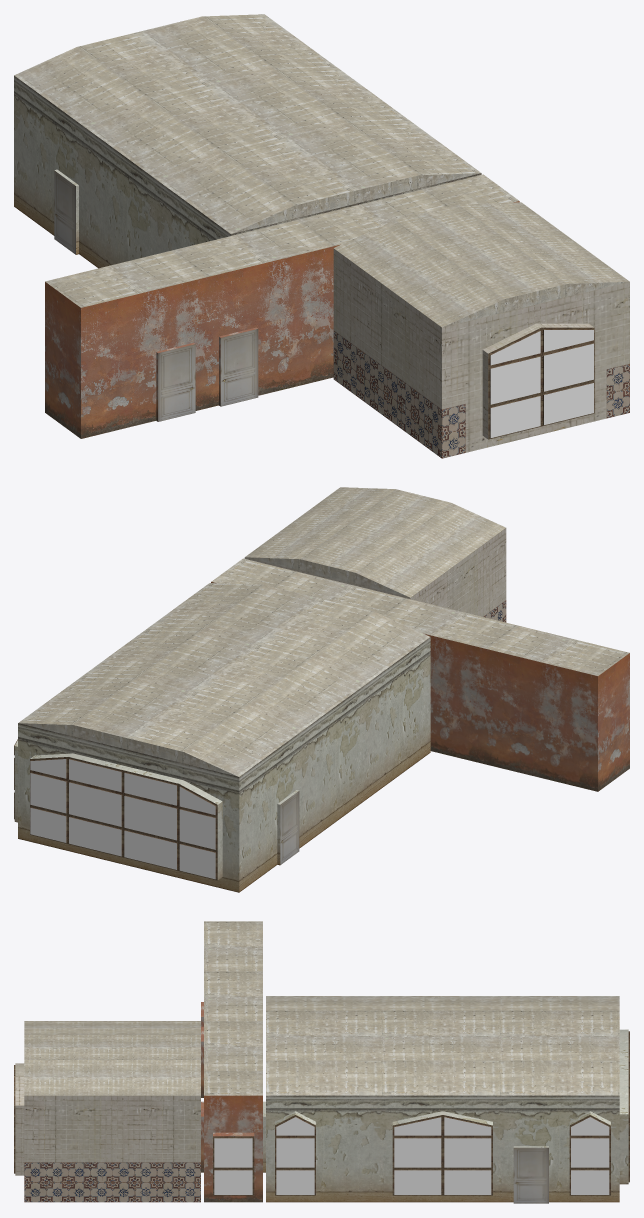
3 views of the same model, one above another, from view 1: azimuth 30°, elevation 25°; view 2: azimuth 150°, elevation 25°; view 3: azimuth 270°, elevation 25° (orthographic). The views are drawn at different scales.
Visible parts, largest first — view 1: Объект_Плоскость.11, Объект_Плоскость.18, Объект_Плоскость.32, Объект_Плоскость.16, Объект_Плоскость.29, Объект_Плоскость.10, Объект_Плоскость, Объект_Плоскость.27, Ноль_объект.3, Ноль_объект.4, Объект_Плоскость.7, Объект_Плоскость.28 (+2 smaller); view 2: Объект_Плоскость.11, Объект_Плоскость.16, Объект_Плоскость.18, Объект_Плоскость.32, Объект_Плоскость.21, Объект_Плоскость.10, Объект_Плоскость, Объект_Плоскость.17, Объект_Плоскость.7, Ноль_объект, Объект_Плоскость.33; view 3: Объект_Плоскость.11, Объект_Плоскость.16, Объект_Плоскость.30, Объект_Плоскость.32, Объект_Плоскость.10, Объект_Плоскость.3, Объект_Плоскость.18, Объект_Плоскость.2, Объект_Плоскость.13, Объект_Плоскость.5, Ноль_объект.35, Объект_Плоскость.12 (+2 smaller).
Boxes of the visible parts, x1,y1,x2,y2 form: Объект_Плоскость.11: (14, 14, 480, 233); Объект_Плоскость.18: (45, 201, 519, 438); Объект_Плоскость.32: (334, 202, 629, 327); Объект_Плоскость.16: (14, 75, 481, 268); Объект_Плоскость.29: (442, 282, 629, 458); Объект_Плоскость.10: (45, 174, 518, 307); Объект_Плоскость: (333, 248, 441, 458); Объект_Плоскость.27: (490, 330, 593, 437); Ноль_объект.3: (219, 327, 258, 406); Ноль_объект.4: (156, 342, 195, 421); Объект_Плоскость.7: (232, 173, 479, 233); Объект_Плоскость.28: (488, 327, 594, 439); Объект_Плоскость.11: (19, 583, 429, 776); Объект_Плоскость.16: (18, 637, 430, 892); Объект_Плоскость.18: (211, 582, 629, 791); Объект_Плоскость.32: (245, 487, 505, 597); Объект_Плоскость.21: (30, 759, 215, 879); Объект_Плоскость.10: (211, 558, 629, 675); Объект_Плоскость: (410, 528, 506, 622); Объект_Плоскость.17: (30, 757, 217, 880); Объект_Плоскость.7: (18, 723, 238, 776); Ноль_объект: (277, 790, 299, 865); Объект_Плоскость.33: (246, 557, 409, 597); Объект_Плоскость.11: (266, 996, 619, 1095); Объект_Плоскость.16: (266, 1029, 628, 1202); Объект_Плоскость.30: (24, 1095, 200, 1202); Объект_Плоскость.32: (24, 1021, 200, 1095); Объект_Плоскость.10: (204, 921, 262, 1095); Объект_Плоскость.3: (394, 1117, 491, 1194); Объект_Плоскость.18: (204, 1095, 262, 1202); Объект_Плоскость.2: (275, 1111, 315, 1195); Объект_Плоскость.13: (571, 1117, 609, 1194); Объект_Плоскость.5: (213, 1132, 254, 1195); Ноль_объект.35: (513, 1146, 548, 1203); Объект_Плоскость.12: (392, 1115, 492, 1195).
Size of what is drawn, in the model's own units: 1435 by 444 by 2090.
